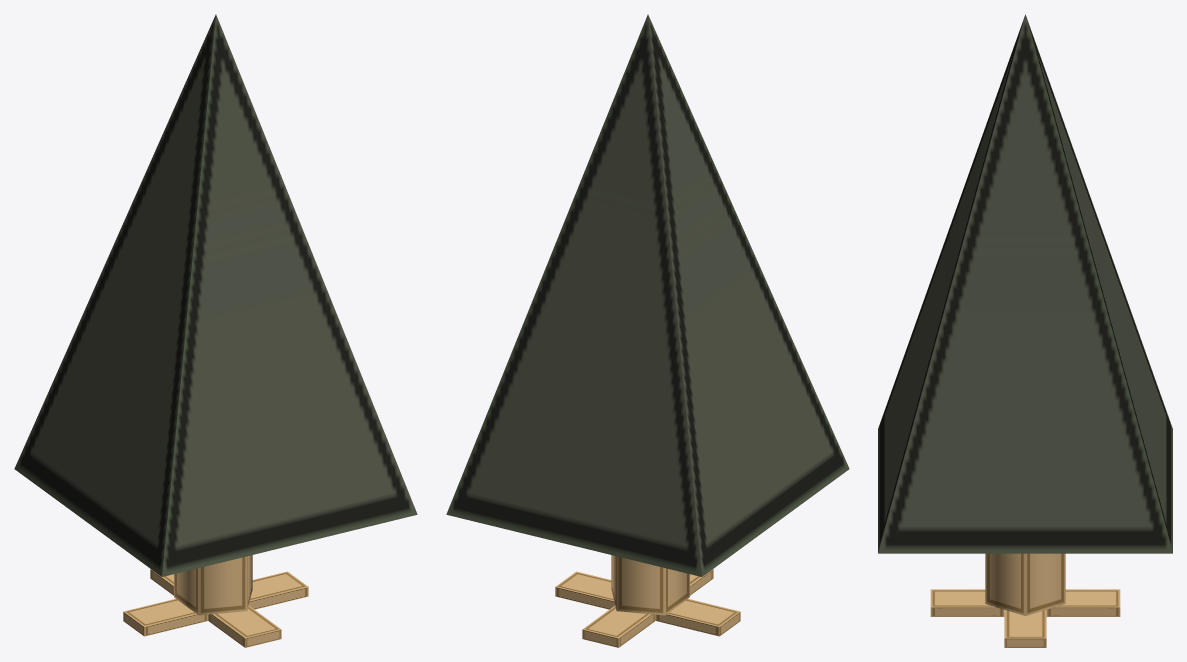
Rendered from Tree006.FBX.
3 views of the same model, side by side, from view 1: azimuth 30°, elevation 25°; view 2: azimuth 150°, elevation 25°; view 3: azimuth 270°, elevation 25° (orthographic).
Visible parts, largest first — view 1: tree006; view 2: tree006; view 3: tree006.
Boxes of the visible parts, x1,y1,x2,y2 form: tree006: (14,14,417,647); tree006: (446,14,849,647); tree006: (878,14,1172,647).
Size of the model in its own units: 140 by 311 by 140.
1 material, 1 textured.
